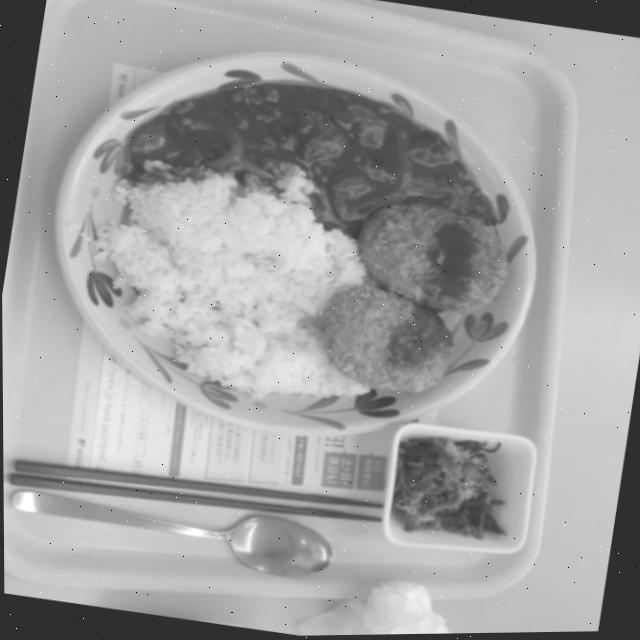猪肉菜式: (19, 16, 580, 476)
